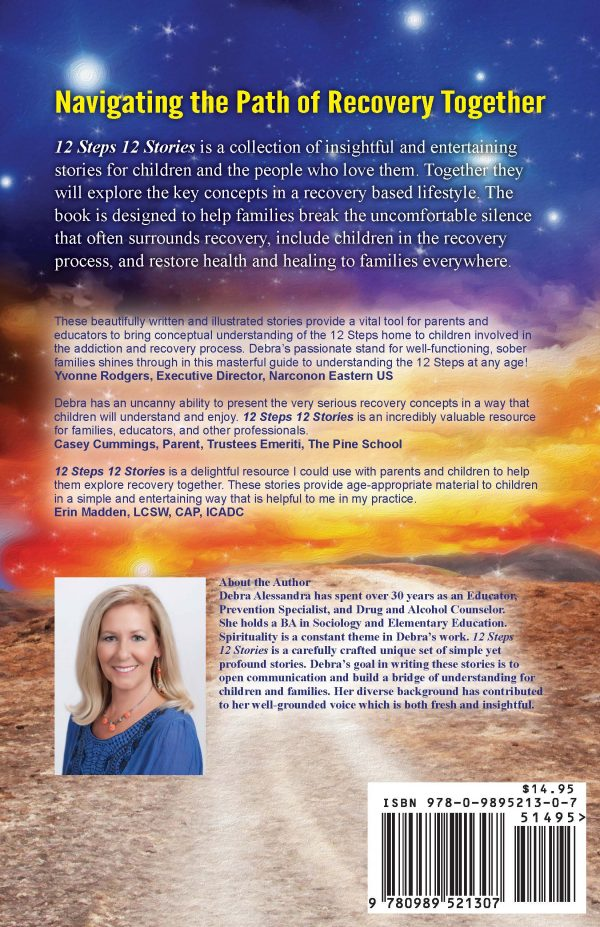barcode: (372, 787, 596, 927)
